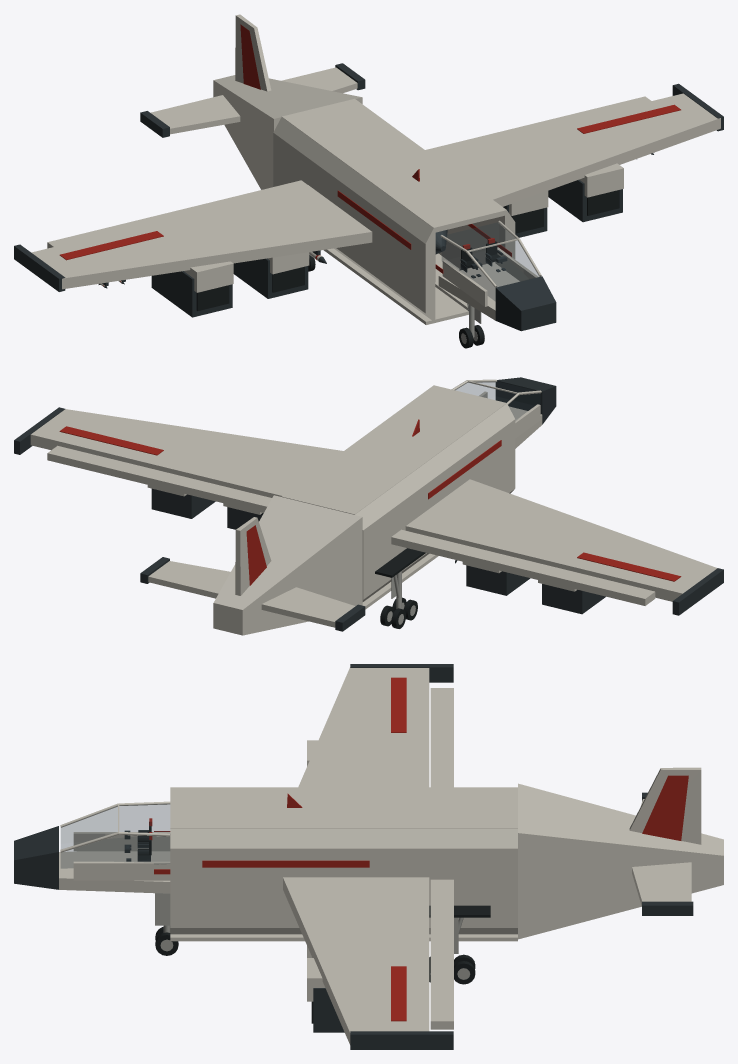
3 views of the same model, one above another, from view 1: azimuth 30°, elevation 25°; view 2: azimuth 150°, elevation 25°; view 3: azimuth 270°, elevation 25° (orthographic). The views are drawn at different scales.
Parts seen in each view (by area): view 1: bomber-painted, bomber-glazing, flap-left-painted, bomber-bay-door-left-painted, flap-right-painted, crew-seating-batch-painted; view 2: bomber-painted, flap-left-painted, flap-right-painted, bomber-glazing, bomber-bay-door-left-painted, breakaway-0-painted; view 3: bomber-painted, bomber-glazing, flap-right-painted, flap-left-painted, bomber-bay-door-right-painted, breakaway-1-painted, crew-seating-batch-painted.
Part boxes in pixels (x1,y1,x2,y2): bomber-painted: [14, 14, 723, 331]; bomber-glazing: [442, 222, 539, 300]; flap-left-painted: [47, 180, 307, 248]; bomber-bay-door-left-painted: [323, 248, 468, 324]; flap-right-painted: [425, 96, 651, 154]; crew-seating-batch-painted: [460, 238, 507, 278]; bomber-painted: [14, 377, 723, 635]; flap-left-painted: [391, 529, 655, 605]; flap-right-painted: [47, 445, 271, 512]; bomber-glazing: [456, 381, 540, 420]; bomber-bay-door-left-painted: [362, 553, 438, 609]; breakaway-0-painted: [335, 604, 365, 631]; bomber-painted: [14, 664, 723, 1049]; bomber-glazing: [61, 804, 169, 868]; flap-right-painted: [430, 879, 453, 1029]; flap-left-painted: [430, 688, 453, 787]; bomber-bay-door-right-painted: [170, 934, 517, 941]; breakaway-1-painted: [642, 901, 693, 915]; crew-seating-batch-painted: [124, 818, 152, 861].
Size of the model in its own units: 195 by 44.83 by 158.
